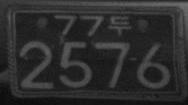2: (20, 39, 54, 89)
5: (59, 41, 92, 88)
6: (135, 42, 171, 89)
7: (94, 41, 131, 88), (79, 14, 104, 37), (53, 14, 78, 36)
두: (108, 15, 131, 36)
